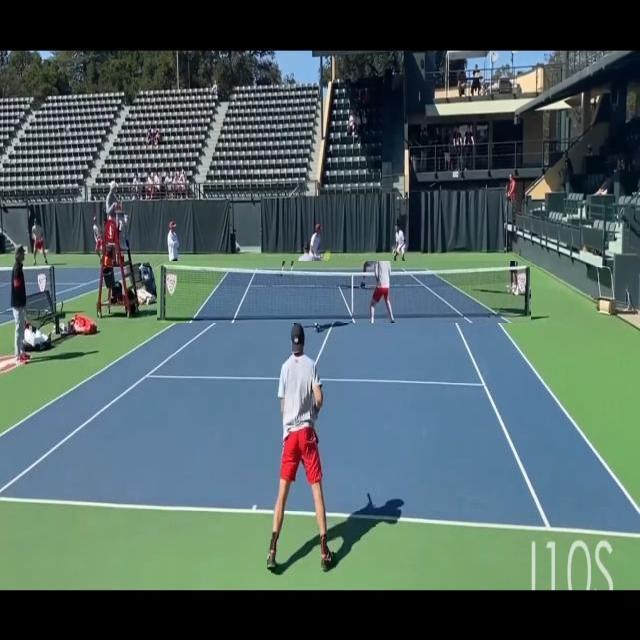court: (0, 268, 640, 540)
net: (157, 261, 531, 323)
player: (268, 319, 336, 573), (292, 240, 324, 334)
